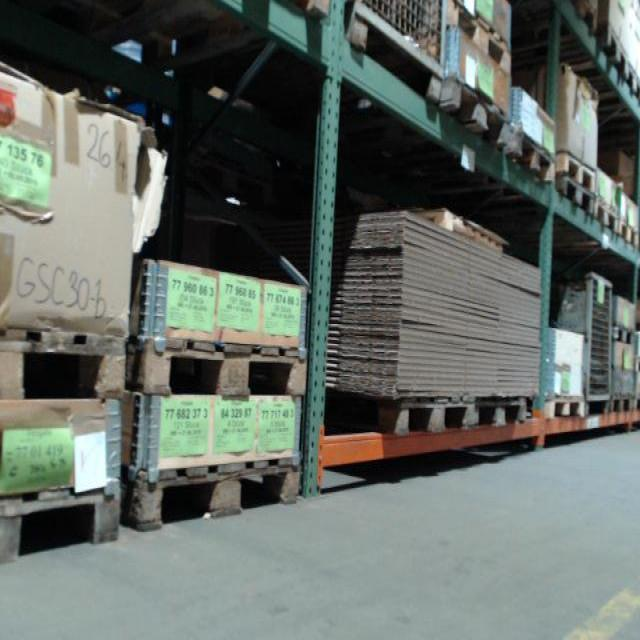pallet: (121, 452, 305, 528), (122, 330, 310, 399), (1, 472, 128, 566), (2, 325, 138, 404), (324, 382, 473, 441), (438, 76, 513, 155), (444, 1, 516, 76), (506, 127, 554, 189), (473, 391, 538, 436), (541, 1, 599, 41), (554, 149, 602, 193), (598, 27, 628, 89), (560, 179, 595, 223), (542, 398, 596, 424), (596, 203, 620, 241), (609, 395, 635, 422), (625, 67, 639, 114), (620, 220, 639, 254), (610, 324, 632, 347)
stillage: (338, 2, 449, 117), (548, 269, 615, 414)
